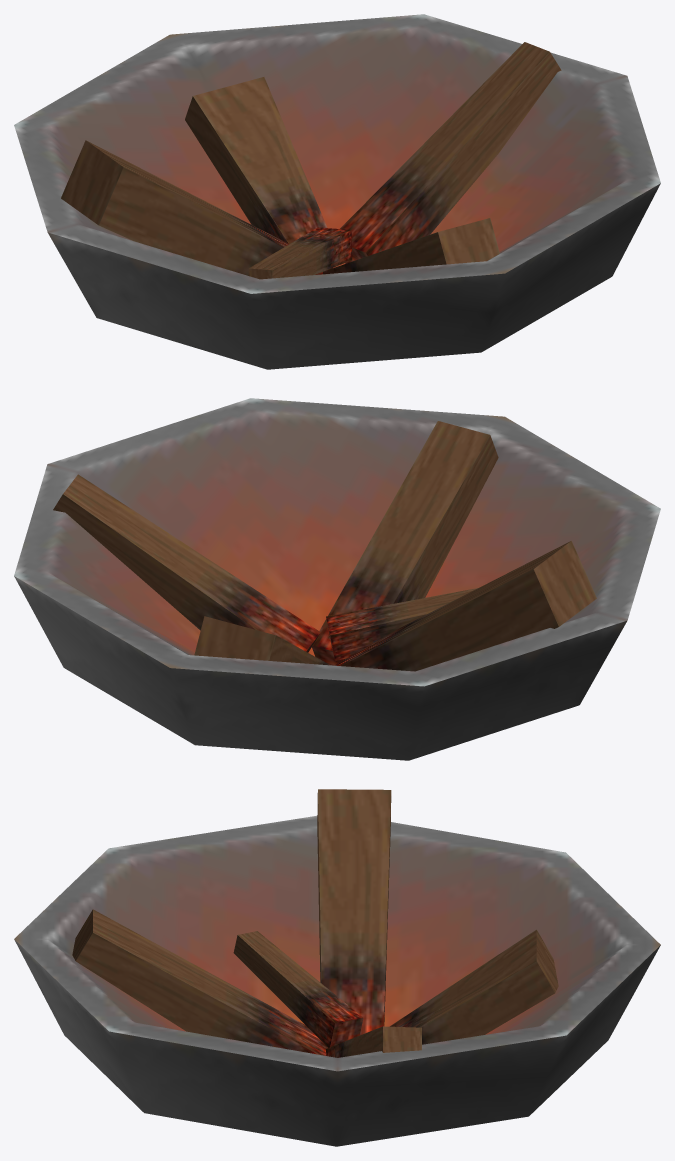
File: h5_huopen_c.FBX
The picture shows the model from 3 angles, top to bottom: view 1: azimuth 30°, elevation 25°; view 2: azimuth 150°, elevation 25°; view 3: azimuth 270°, elevation 25°; orthographic projection. The views are drawn at different scales.
Visible parts, largest first — view 1: h5_huopen_c; view 2: h5_huopen_c; view 3: h5_huopen_c.
Part boxes in pixels (left/top/right/bottom): h5_huopen_c: left=14, top=14, right=660, bottom=369; h5_huopen_c: left=14, top=398, right=660, bottom=760; h5_huopen_c: left=14, top=789, right=660, bottom=1146.
Size of the model in its own units: 0.6348 by 0.2583 by 0.6349.
